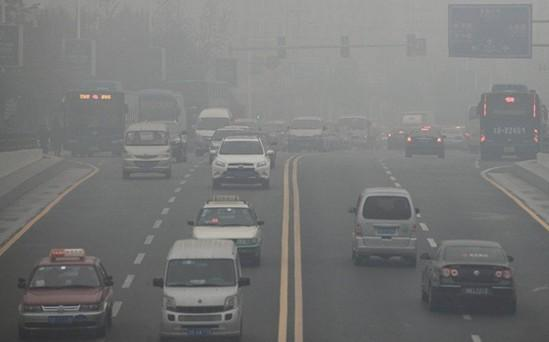bus: (468, 83, 548, 165), (60, 79, 130, 157), (133, 88, 188, 163), (158, 80, 232, 126), (339, 116, 372, 149), (400, 111, 433, 142)
car: (153, 238, 251, 342), (18, 248, 115, 342), (420, 240, 517, 314), (347, 187, 420, 269), (187, 194, 266, 267), (210, 136, 275, 191), (120, 119, 176, 180), (192, 107, 232, 155), (287, 115, 328, 152), (207, 128, 245, 164), (405, 127, 447, 159), (221, 125, 252, 152), (440, 127, 471, 149), (235, 117, 259, 145), (264, 120, 289, 144), (387, 129, 410, 150)
